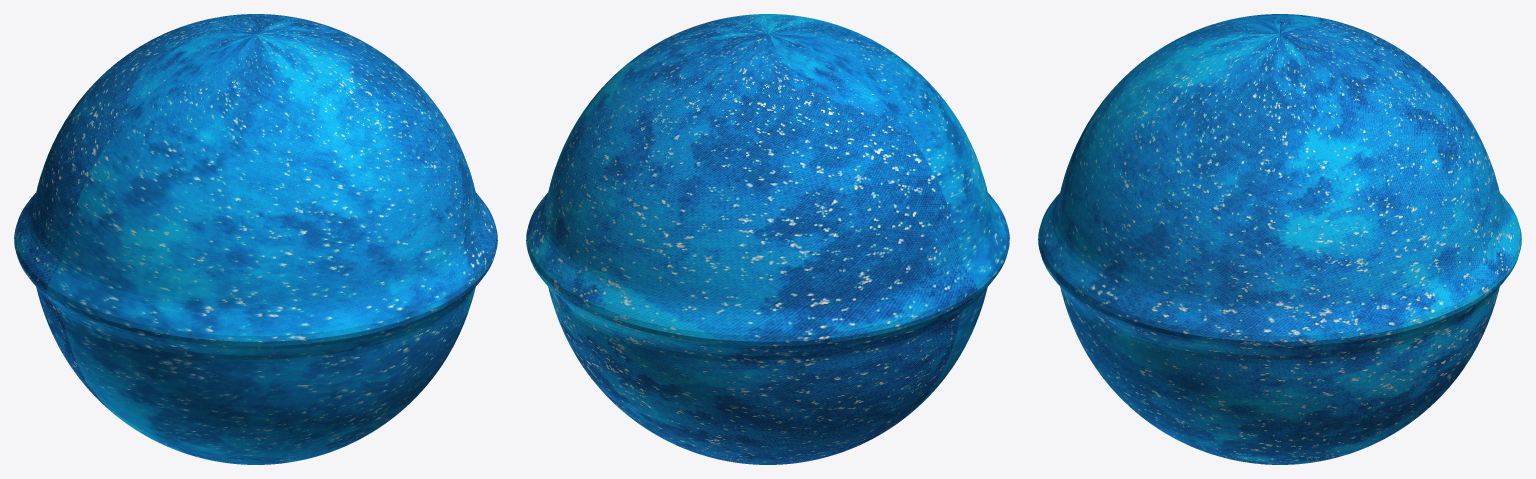
The model's file is BATH BOMB.fbx.
The picture shows the model from 3 angles, left to right: view 1: azimuth 30°, elevation 25°; view 2: azimuth 150°, elevation 25°; view 3: azimuth 270°, elevation 25°; orthographic projection.
Visible parts, largest first — view 1: Sphere; view 2: Sphere; view 3: Sphere.
Boxes of the visible parts, x1,y1,x2,y2 form: Sphere: [14, 14, 497, 464]; Sphere: [526, 14, 1009, 464]; Sphere: [1038, 14, 1521, 464].
Size of the model in its own units: 213 by 200 by 213.
